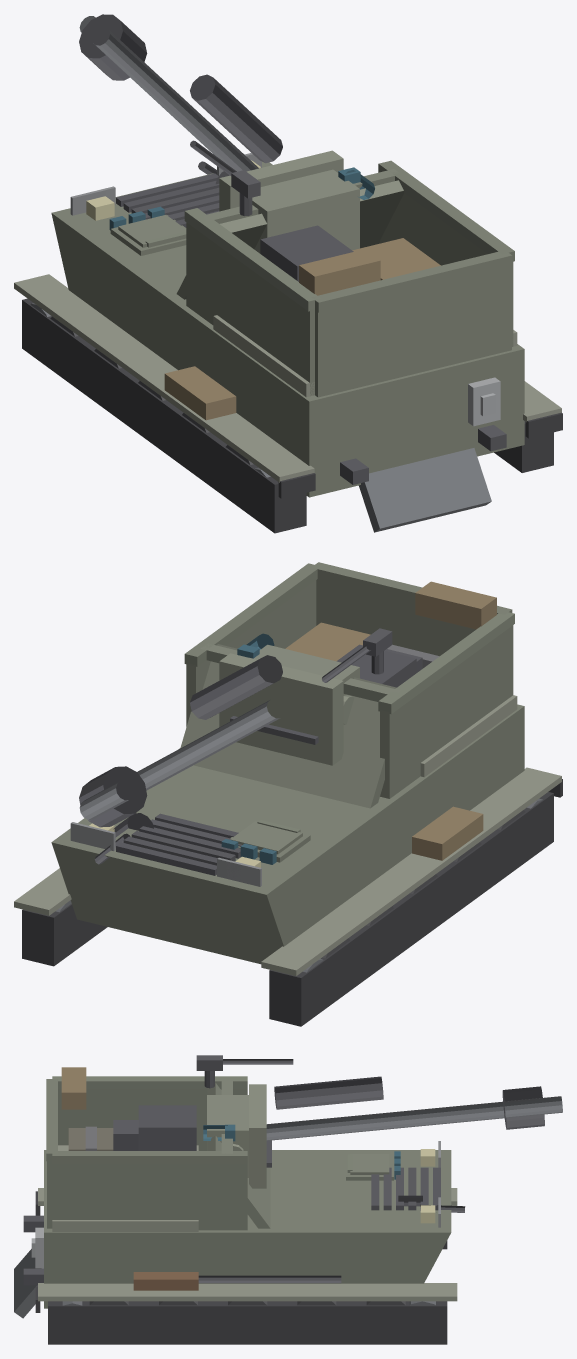
Rendered from chinese_artillery.glb.
The picture shows the model from 3 angles, top to bottom: view 1: azimuth 30°, elevation 25°; view 2: azimuth 150°, elevation 25°; view 3: azimuth 270°, elevation 25°; orthographic projection. The views are drawn at different scales.
Parts seen in each view (by area): view 1: hull, casemate_rear, track_l, casemate_rim, casemate_l, fender_l, turret, spade, barrel, casemate_r, recoil, casemate_front (+16 smaller); view 2: hull, track_l, casemate_l, casemate_front, turret, fender_l, casemate_rim, casemate_rear, spare_track, barrel, casemate_r, track_r (+14 smaller); view 3: hull, track_r, casemate_r, fender_r, casemate_rim, barrel, casemate_l, turret, breech, recoil, spare_track, engine_deck (+13 smaller).
Boxes of the visible parts, x1=… form: hull: x1=51, y1=161, x2=524, y2=497; casemate_rear: x1=315, y1=265, x2=511, y2=397; track_l: x1=22, y1=298, x2=306, y2=533; casemate_rim: x1=184, y1=160, x2=514, y2=312; casemate_l: x1=186, y1=222, x2=314, y2=396; fender_l: x1=14, y1=274, x2=314, y2=482; turret: x1=219, y1=150, x2=359, y2=253; spade: x1=358, y1=448, x2=491, y2=532; barrel: x1=79, y1=16, x2=258, y2=171; casemate_r: x1=380, y1=193, x2=513, y2=346; recoil: x1=190, y1=74, x2=282, y2=163; casemate_front: x1=176, y1=180, x2=403, y2=299; hull: x1=51, y1=704, x2=524, y2=964; track_l: x1=269, y1=792, x2=553, y2=1026; casemate_l: x1=380, y1=625, x2=513, y2=798; casemate_front: x1=180, y1=644, x2=396, y2=808; turret: x1=219, y1=644, x2=359, y2=765; fender_l: x1=261, y1=767, x2=561, y2=975; casemate_rim: x1=184, y1=562, x2=514, y2=713; casemate_rear: x1=316, y1=579, x2=475, y2=656; spare_track: x1=116, y1=813, x2=241, y2=875; barrel: x1=79, y1=700, x2=280, y2=819; casemate_r: x1=186, y1=580, x2=316, y2=726; track_r: x1=22, y1=903, x2=107, y2=966; hull: x1=44, y1=1150, x2=451, y2=1308; track_r: x1=48, y1=1301, x2=447, y2=1344; casemate_r: x1=52, y1=1164, x2=247, y2=1230; fender_r: x1=38, y1=1283, x2=457, y2=1301; casemate_rim: x1=46, y1=1076, x2=247, y2=1163; barrel: x1=266, y1=1096, x2=562, y2=1140; casemate_l: x1=58, y1=1089, x2=247, y2=1150; turret: x1=207, y1=1084, x2=266, y2=1188; breech: x1=113, y1=1105, x2=196, y2=1150; recoil: x1=274, y1=1076, x2=383, y2=1109; spare_track: x1=371, y1=1167, x2=440, y2=1210; engine_deck: x1=52, y1=1145, x2=198, y2=1231.
Bounding box in the file's own units: 3.54 × 3.32 × 7.55.
